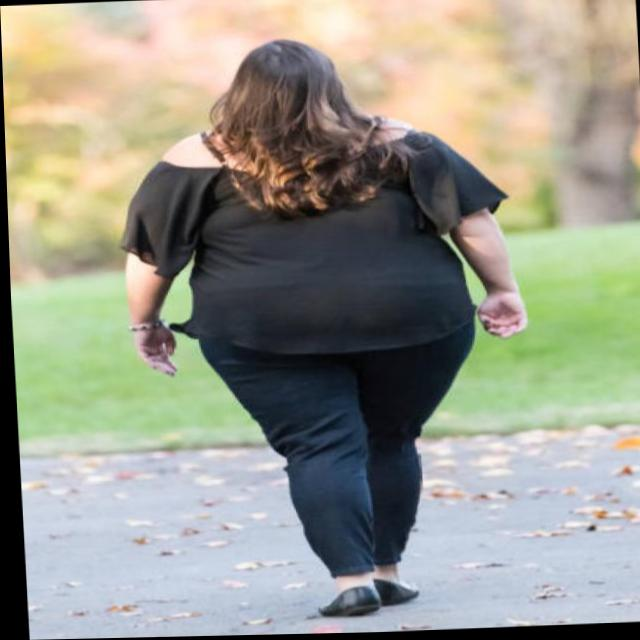no helmet: (200, 42, 388, 166)
